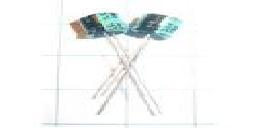Electrolytic-Capacitor: (73, 10, 188, 128)
